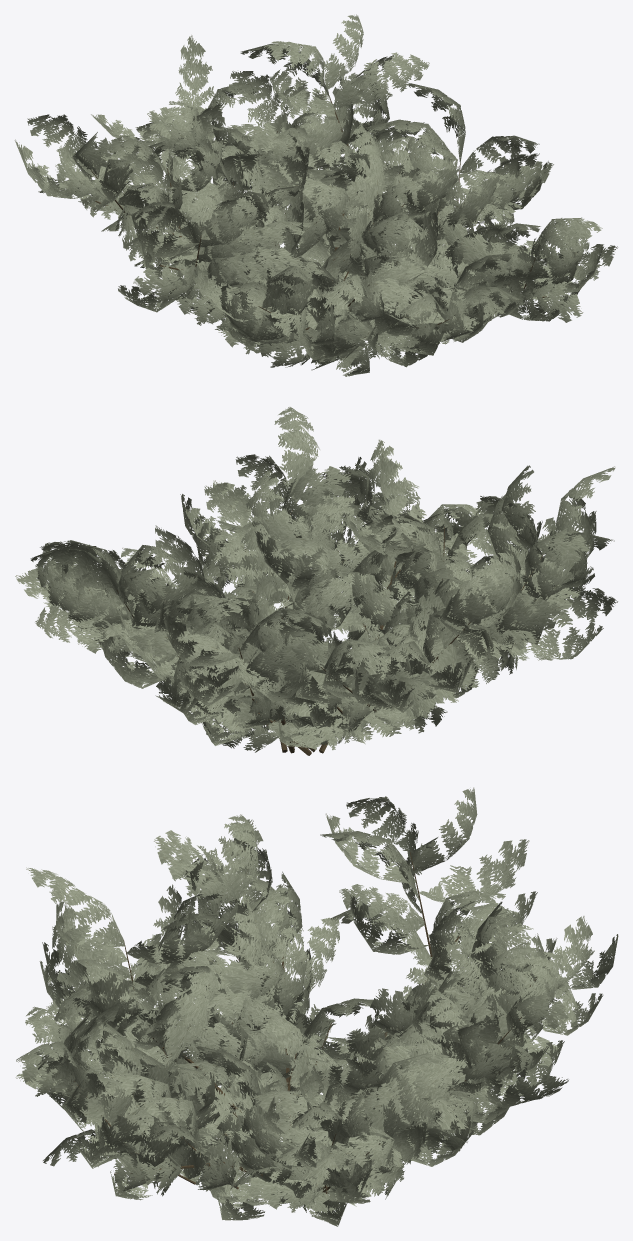
Rendered from SM_CN_Sage_B.fbx.
The picture shows the model from 3 angles, top to bottom: view 1: azimuth 30°, elevation 25°; view 2: azimuth 150°, elevation 25°; view 3: azimuth 270°, elevation 25°; orthographic projection. The views are drawn at different scales.
Parts seen in each view (by area): view 1: SM_CN_Sage_B; view 2: SM_CN_Sage_B; view 3: SM_CN_Sage_B.
Part boxes in pixels (x1,y1,x2,y2): SM_CN_Sage_B: [14, 14, 617, 376]; SM_CN_Sage_B: [15, 407, 617, 755]; SM_CN_Sage_B: [15, 787, 618, 1226].
Size of the model in its own units: 1.25 by 1.17 by 0.62.
